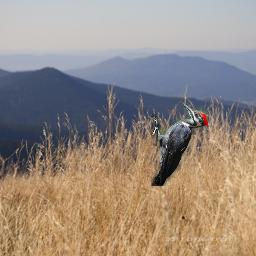Woodpecker: (151, 102, 208, 186)
